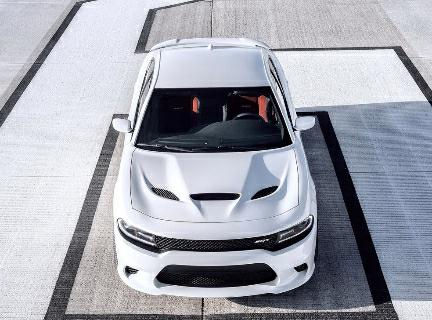道奇-ChargerSRT: (110, 34, 323, 304)
